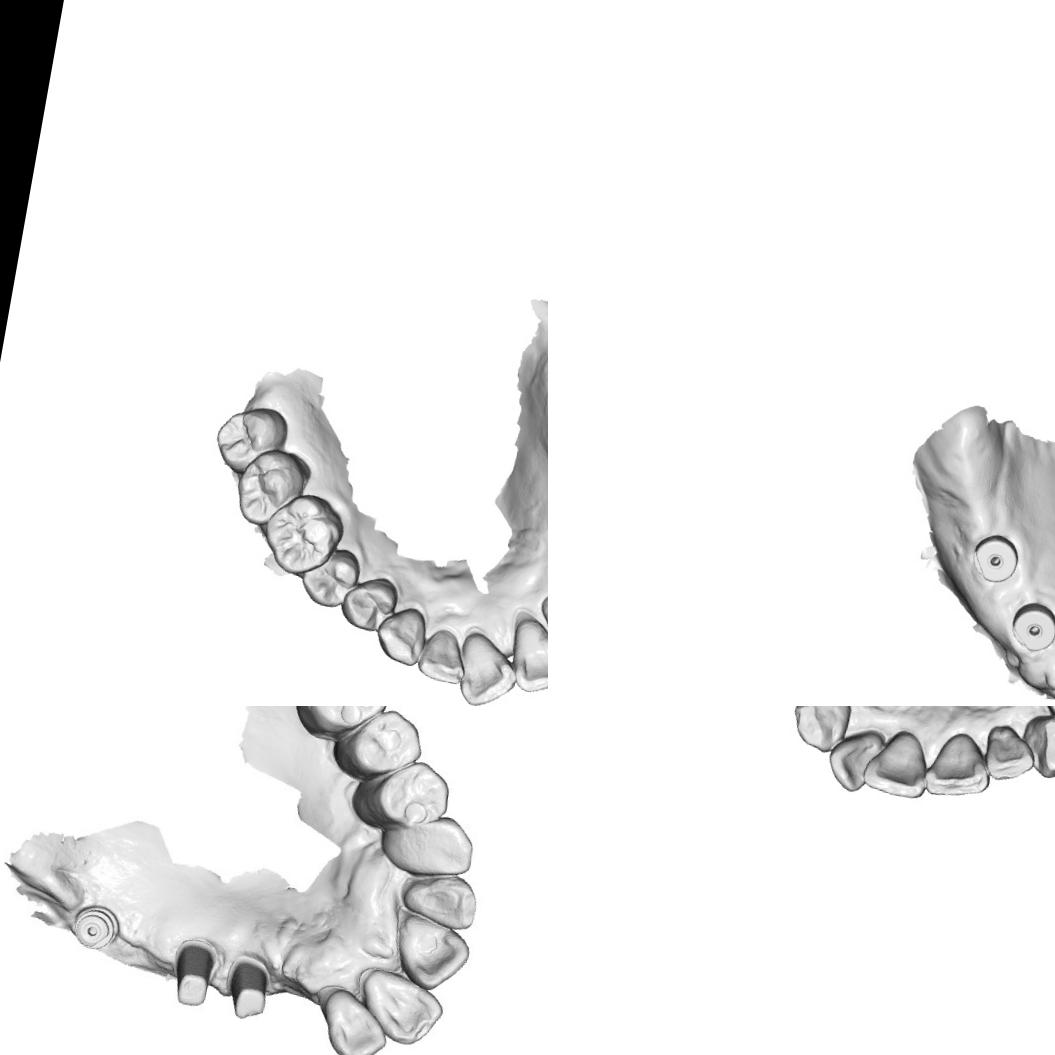abutment: (163, 930, 221, 1012), (218, 944, 278, 1020)
canine: (382, 810, 470, 877), (370, 600, 429, 669), (787, 706, 853, 755), (1015, 709, 1055, 784)
implant: (66, 895, 128, 955), (967, 529, 1022, 587), (1005, 597, 1055, 656)
incisor: (352, 963, 446, 1046), (920, 728, 997, 805), (310, 979, 388, 1055), (859, 724, 935, 802), (449, 628, 524, 706), (392, 912, 470, 986), (397, 865, 482, 928), (821, 724, 882, 795), (502, 613, 548, 700), (980, 722, 1040, 786), (414, 624, 472, 688), (532, 590, 548, 656)
molar: (254, 484, 349, 582), (229, 442, 311, 532), (209, 398, 293, 480), (370, 754, 452, 834), (344, 707, 422, 781), (294, 706, 391, 743)
premolar: (297, 541, 365, 614), (336, 570, 402, 637)
